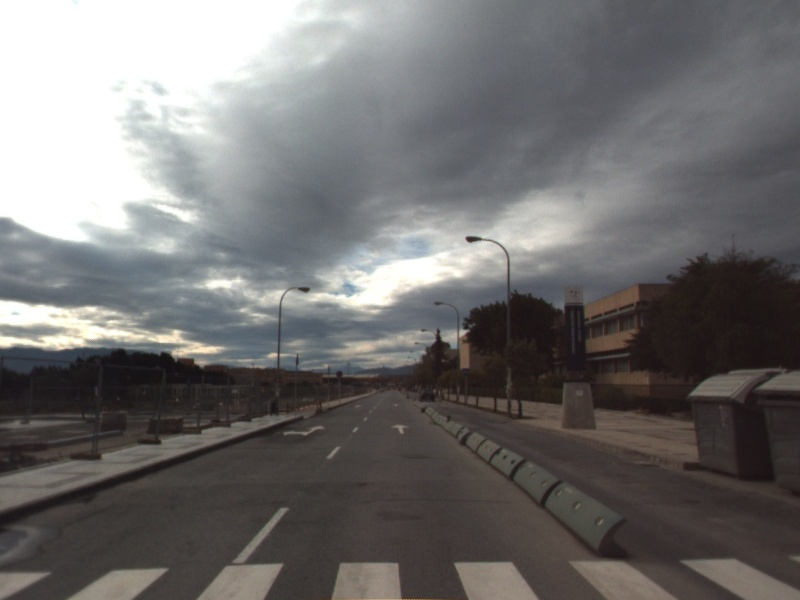STRAIGHT: (389, 422, 412, 436)
STRAIGHT_LEFT: (280, 423, 328, 438)
